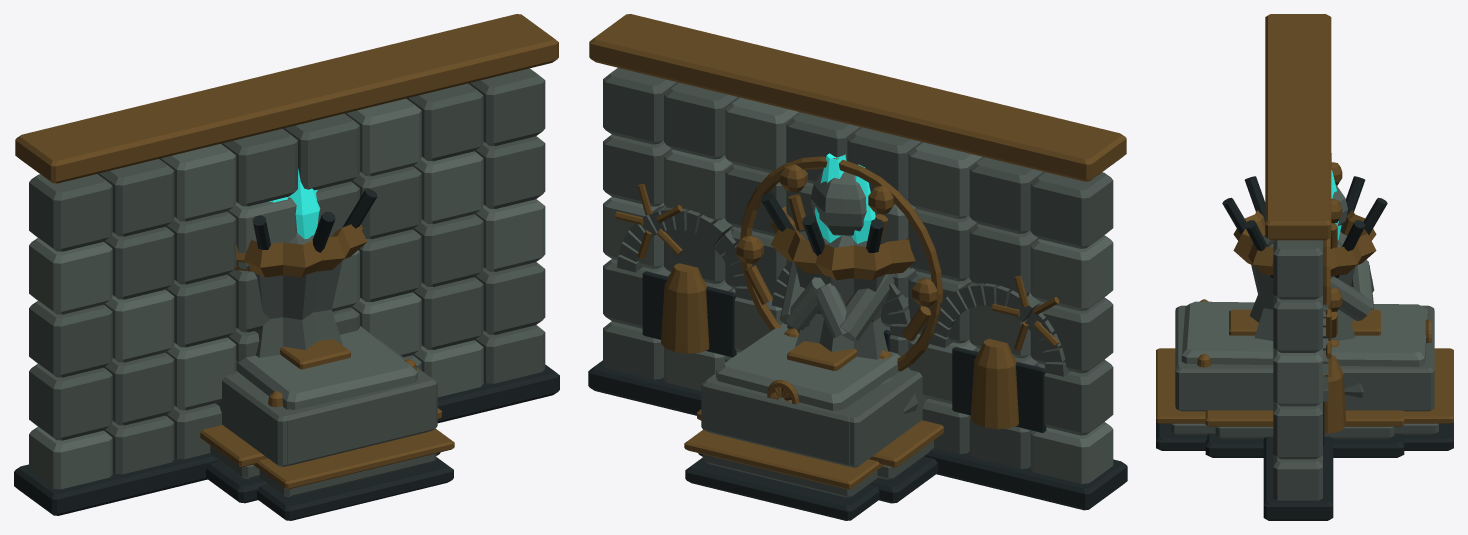
The model's file is spirit_ruins.glb.
3 renders of one model, left to right at view 1: azimuth 30°, elevation 25°; view 2: azimuth 150°, elevation 25°; view 3: azimuth 270°, elevation 25°, orthographic. The views are drawn at different scales.
Parts seen in each view (by area): view 1: CryptWall_stone, CryptWall_stone_light, CryptWall_trim, AwakeningBier_stone, MuralWall_trim, CryptWall_dark, Sarcophagus_stone_light, KneelingStatue_stone, MuralWall_stone, AwakeningBier_trim, AwakeningBier_dark, WatchBrazier_trim (+7 smaller); view 2: MuralWall_stone, MuralWall_trim, MuralWall_stone_light, CryptWall_trim, CryptWall_stone, AwakeningBier_stone, MuralWall_dark, CryptWall_dark, Sarcophagus_stone_light, KneelingStatue_stone, KneelingStatue_stone_light, AwakeningBier_dark (+8 smaller); view 3: CryptWall_trim, MuralWall_trim, AwakeningBier_stone, CryptWall_stone, Sarcophagus_stone_light, MuralWall_stone, KneelingStatue_stone, AwakeningBier_trim, WatchBrazier_trim, KneelingStatue_dark, WatchBrazier_dark, KneelingStatue_trim (+7 smaller).
Boxes of the visible parts, box(x1,y1,x2,y2) form: CryptWall_stone: box(33, 68, 545, 474); CryptWall_stone_light: box(33, 98, 545, 489); CryptWall_trim: box(19, 17, 558, 183); AwakeningBier_stone: box(216, 339, 437, 497); MuralWall_trim: box(15, 14, 549, 180); CryptWall_dark: box(18, 364, 559, 515); Sarcophagus_stone_light: box(236, 326, 417, 409); KneelingStatue_stone: box(210, 233, 342, 479); MuralWall_stone: box(29, 73, 533, 436); AwakeningBier_trim: box(253, 359, 454, 489); AwakeningBier_dark: box(257, 457, 453, 520); WatchBrazier_trim: box(234, 222, 367, 277); MuralWall_stone: box(603, 68, 1110, 468); MuralWall_trim: box(589, 16, 1123, 371); MuralWall_stone_light: box(603, 101, 1110, 483); CryptWall_trim: box(598, 14, 1126, 429); CryptWall_stone: box(615, 68, 1113, 431); AwakeningBier_stone: box(701, 368, 928, 497); MuralWall_dark: box(588, 360, 1119, 510); CryptWall_dark: box(597, 271, 1127, 502); Sarcophagus_stone_light: box(716, 323, 900, 410); KneelingStatue_stone: box(780, 231, 933, 479); KneelingStatue_stone_light: box(785, 172, 866, 338); AwakeningBier_dark: box(685, 458, 879, 520); CryptWall_trim: box(1265, 14, 1346, 433); MuralWall_trim: box(1272, 14, 1342, 377); AwakeningBier_stone: box(1171, 305, 1438, 434); CryptWall_stone: box(1273, 240, 1328, 500); Sarcophagus_stone_light: box(1181, 301, 1428, 366); MuralWall_stone: box(1282, 240, 1322, 500); KneelingStatue_stone: box(1215, 232, 1394, 439); AwakeningBier_trim: box(1156, 299, 1453, 423); WatchBrazier_trim: box(1233, 210, 1376, 275); KneelingStatue_dark: box(1205, 434, 1404, 457); WatchBrazier_dark: box(1222, 176, 1387, 277); KneelingStatue_trim: box(1205, 410, 1404, 426).
Size of the model in its own units: 6 by 4 by 3.6.
